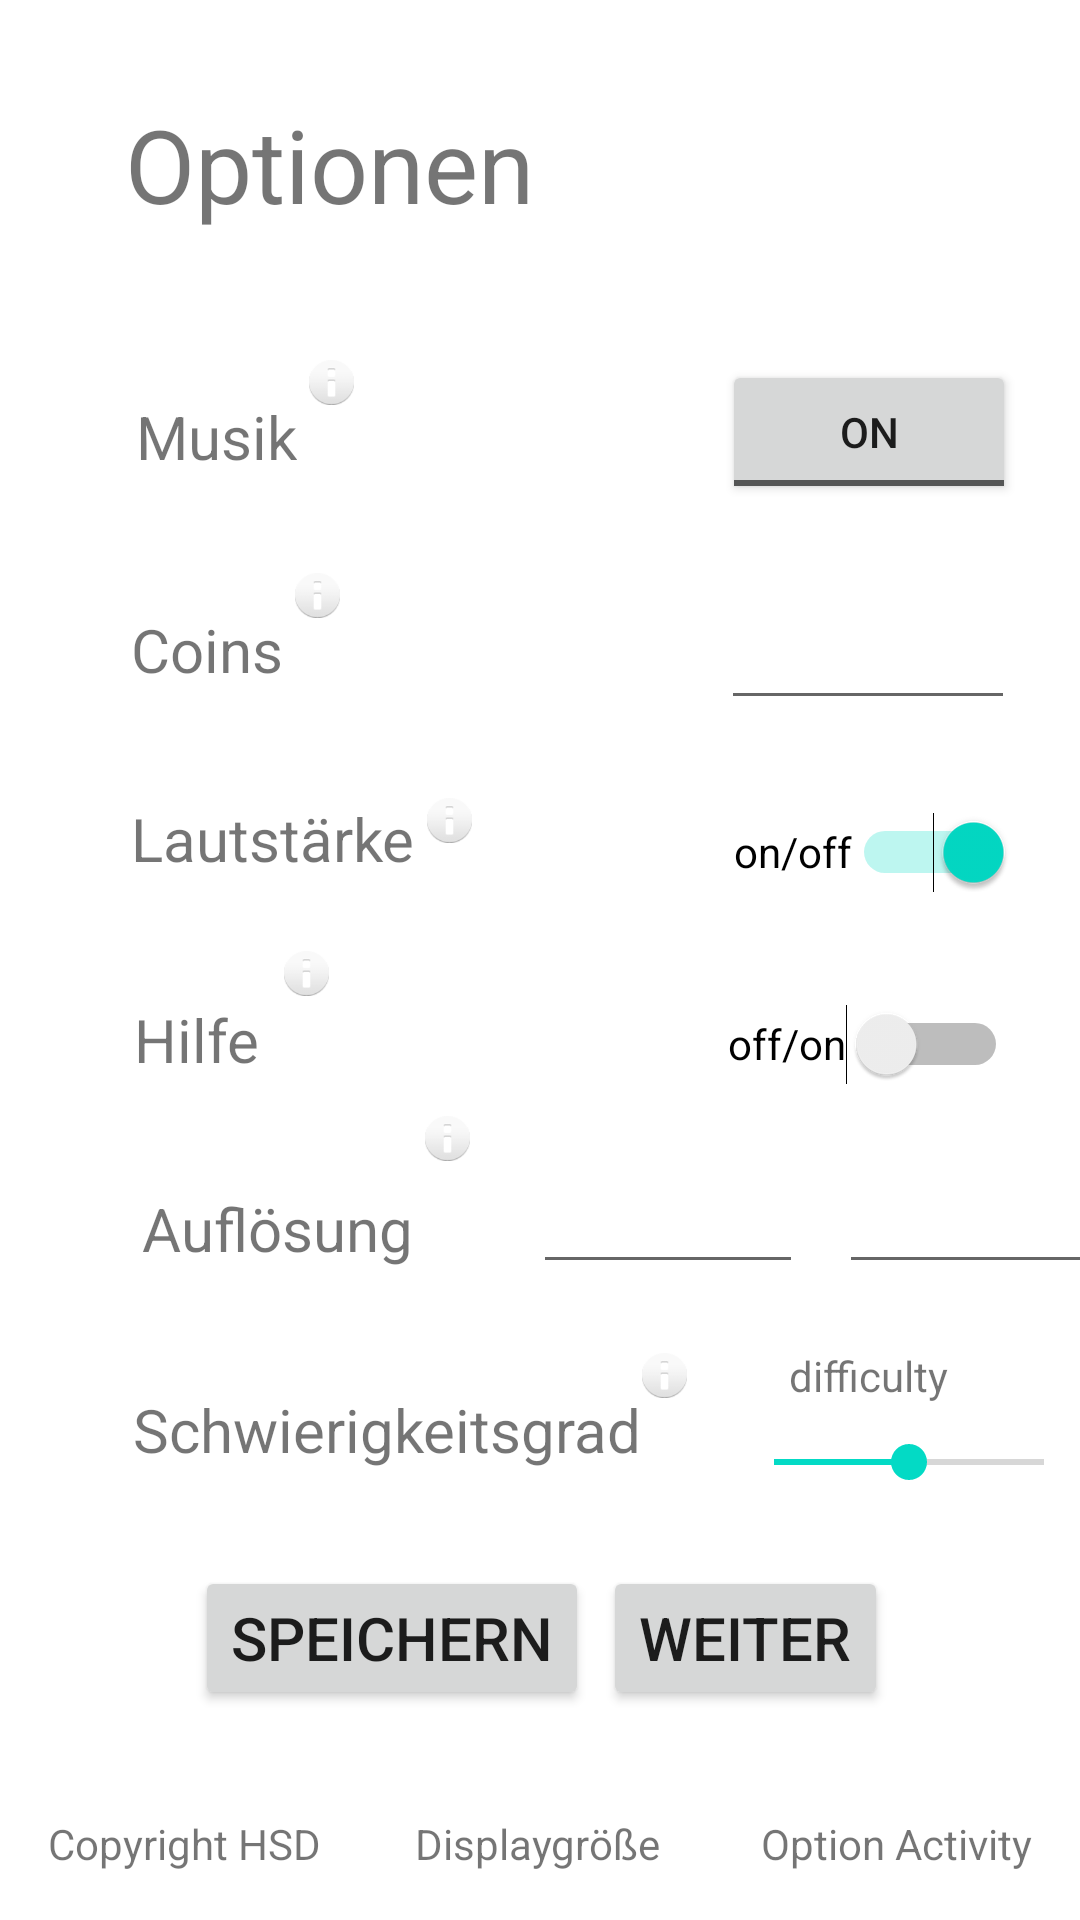

Screen size 1080px×1920px. Icon name, then its box in pixels as box(x1, y1, x2, y2):
info: box(309, 368, 354, 405), box(295, 581, 340, 618), box(427, 806, 472, 843), box(284, 959, 329, 996), box(425, 1124, 470, 1161), box(642, 1361, 687, 1398)
